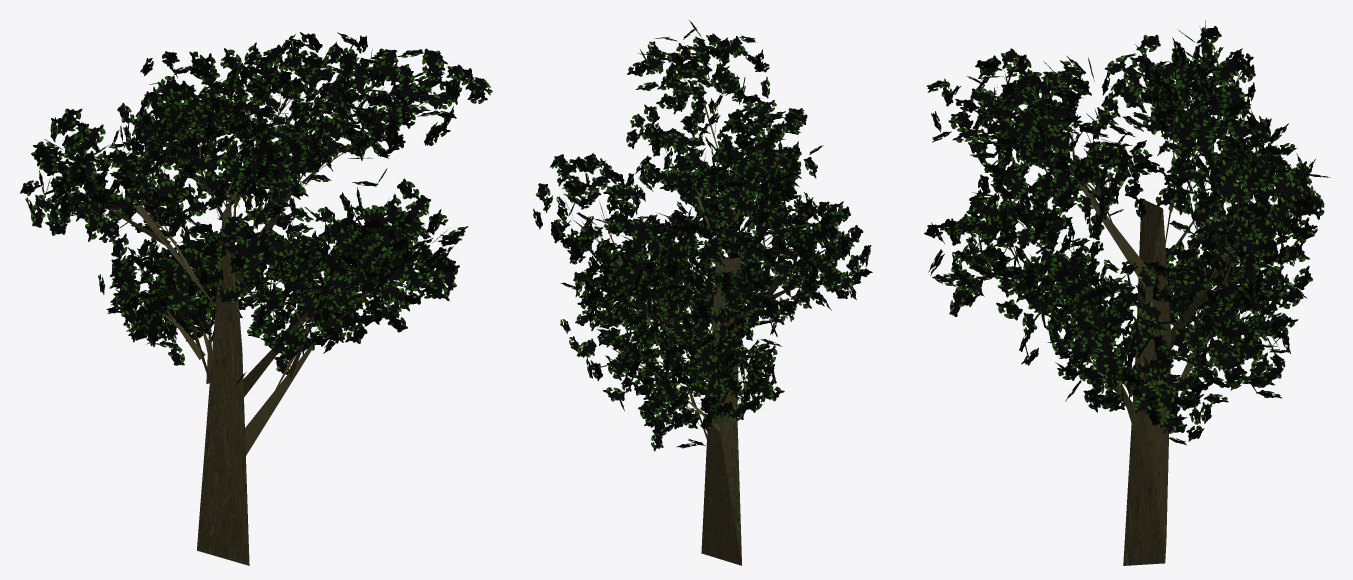
File: broadleaf_giant_v01_LOD2.fbx
3 renders of one model, left to right at view 1: azimuth 30°, elevation 25°; view 2: azimuth 150°, elevation 25°; view 3: azimuth 270°, elevation 25°, orthographic. The views are drawn at different scales.
Parts seen in each view (by area): view 1: broadleaf_giant_v01_LOD2; view 2: broadleaf_giant_v01_LOD2; view 3: broadleaf_giant_v01_LOD2.
Part boxes in pixels (x1,y1,x2,y2): broadleaf_giant_v01_LOD2: [20, 32, 492, 565]; broadleaf_giant_v01_LOD2: [533, 20, 872, 565]; broadleaf_giant_v01_LOD2: [924, 20, 1330, 565].
Bounding box in the file's own units: 2518 × 2218 × 3170.
2 materials, 2 textured.
